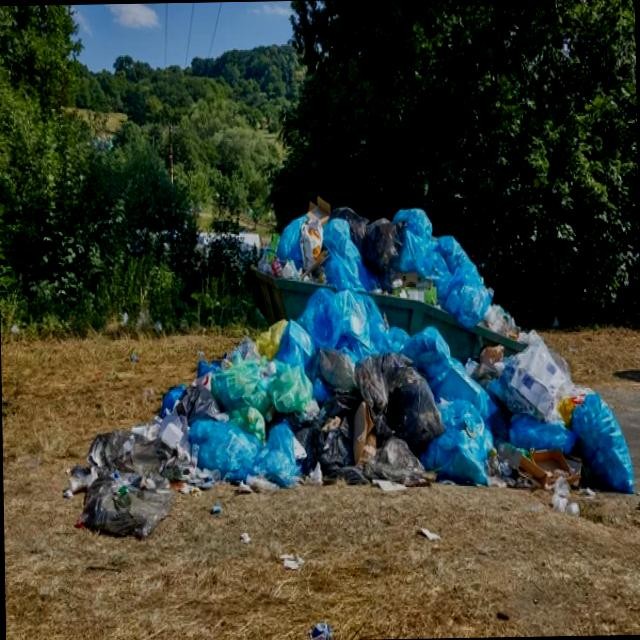garbage: (164, 306, 616, 596)
